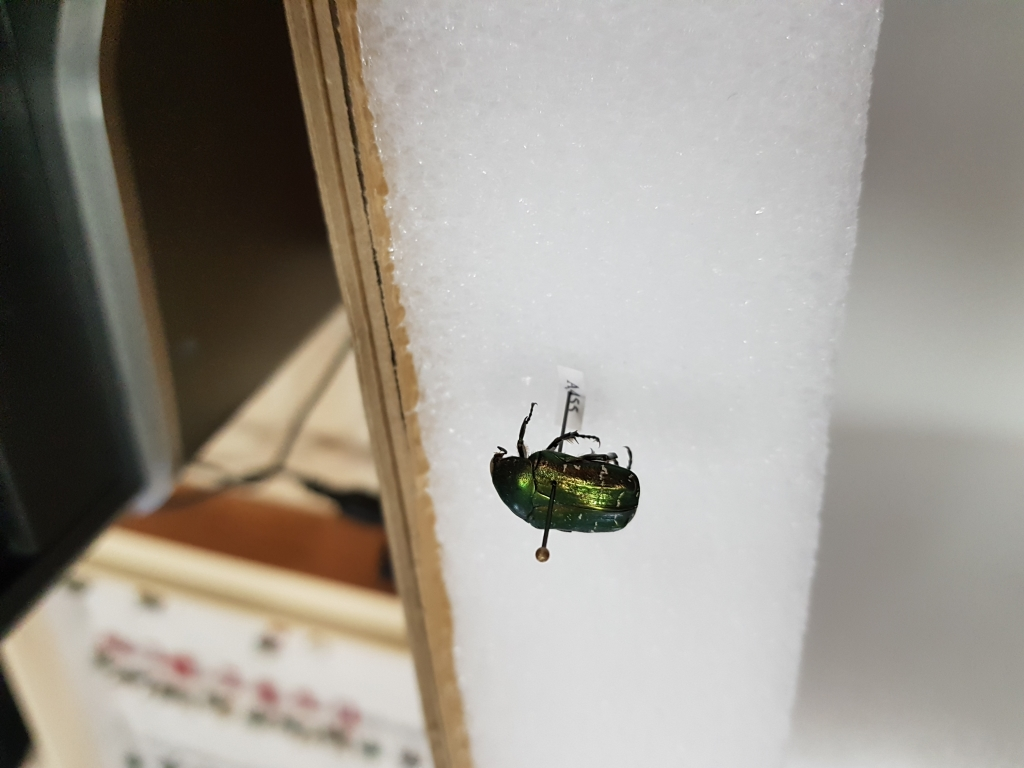Cetonia_kemali: (485, 395, 643, 543)
